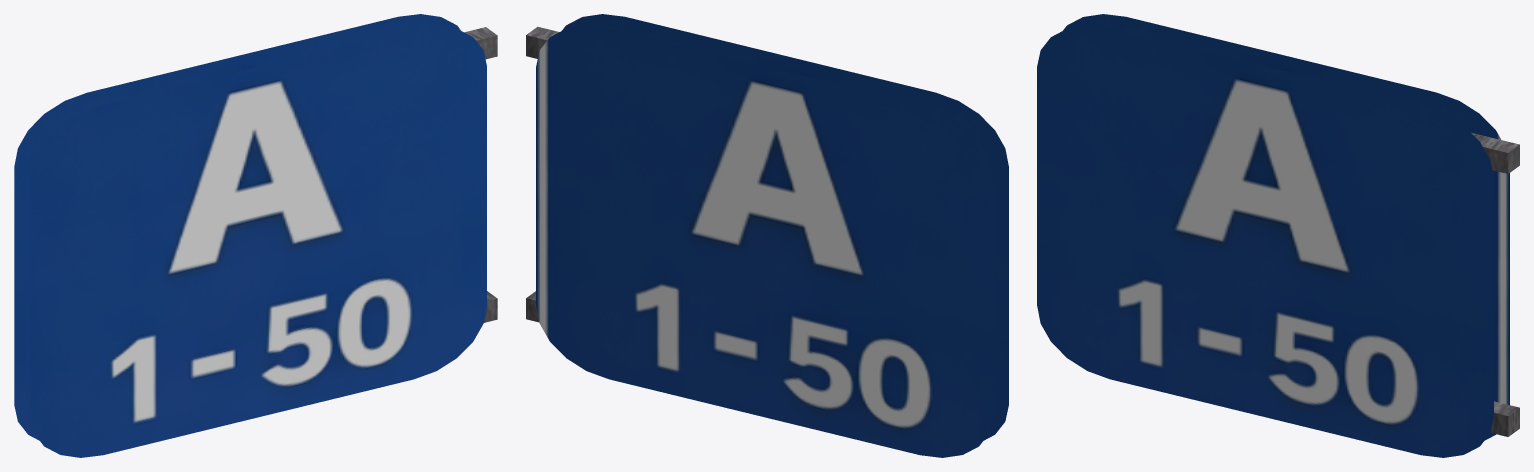
The model's file is skilt A 1-50.fbx.
3 renders of one model, left to right at view 1: azimuth 30°, elevation 25°; view 2: azimuth 150°, elevation 25°; view 3: azimuth 330°, elevation 25°, orthographic.
Parts seen in each view (by area): view 1: Cube; view 2: Cube; view 3: Cube.
Part boxes in pixels (left/top/right/bottom): Cube: left=14, top=14, right=497, bottom=457; Cube: left=526, top=14, right=1008, bottom=457; Cube: left=1037, top=14, right=1519, bottom=457.
Size of the model in its own units: 0.9334 by 0.667 by 0.055.
Materials: 2 (2 with a texture image).
